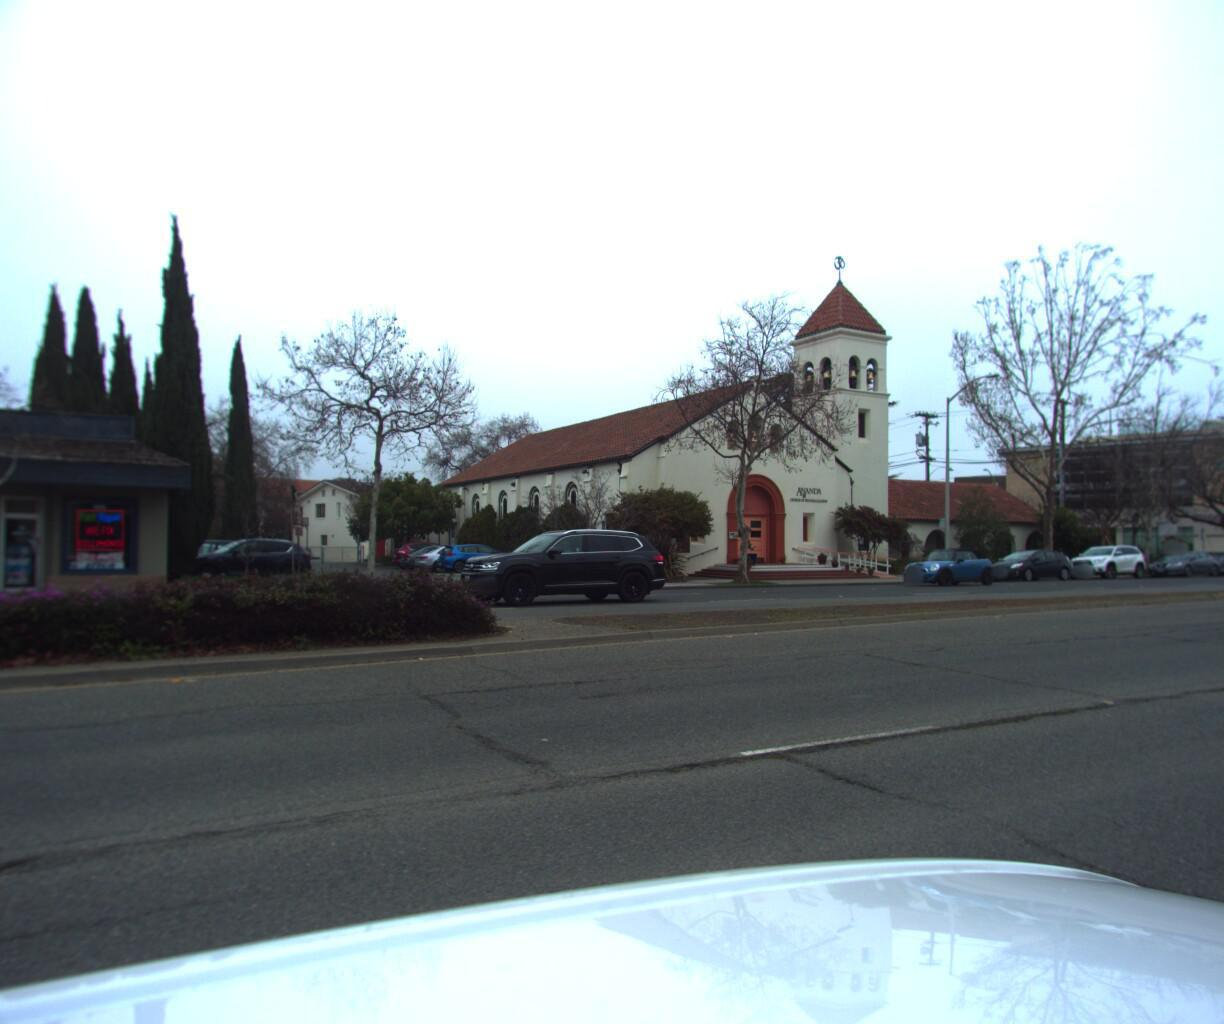car: (451, 524, 669, 609), (165, 530, 322, 587), (893, 545, 996, 584), (1056, 539, 1148, 577), (976, 545, 1073, 581), (1138, 544, 1219, 576), (1198, 544, 1224, 573)
